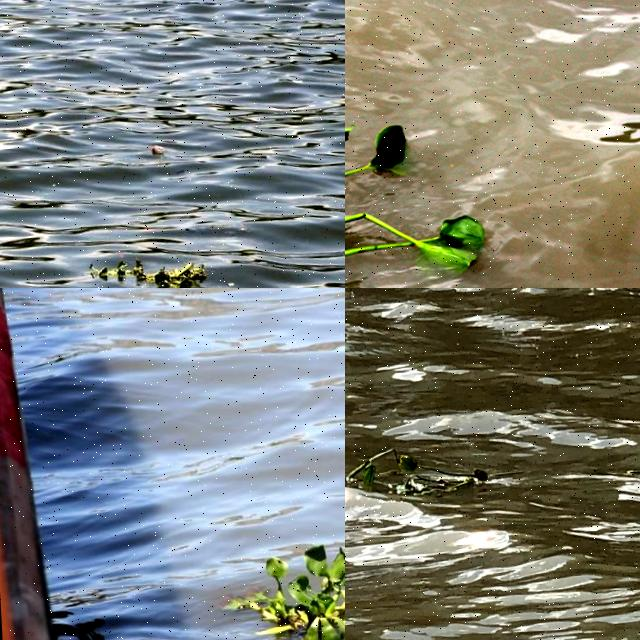water-hyacinth: (346, 106, 512, 289), (224, 548, 346, 640), (346, 437, 487, 503), (82, 255, 215, 289)
